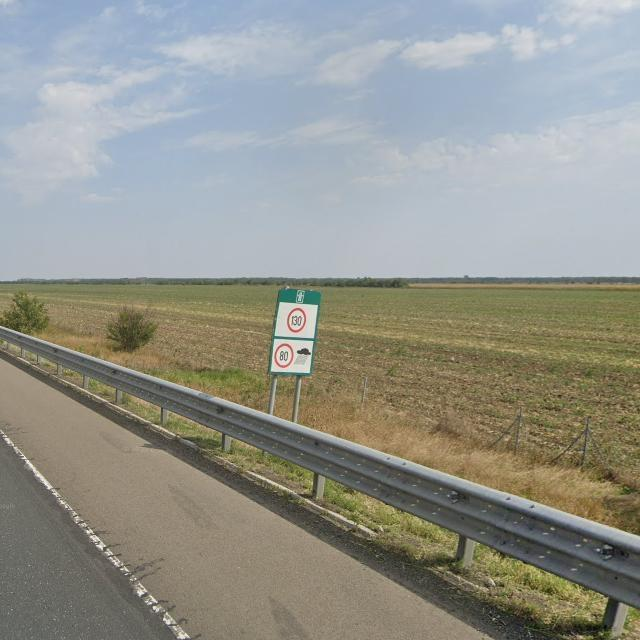forb_speed_over_80: (275, 344, 295, 369)
